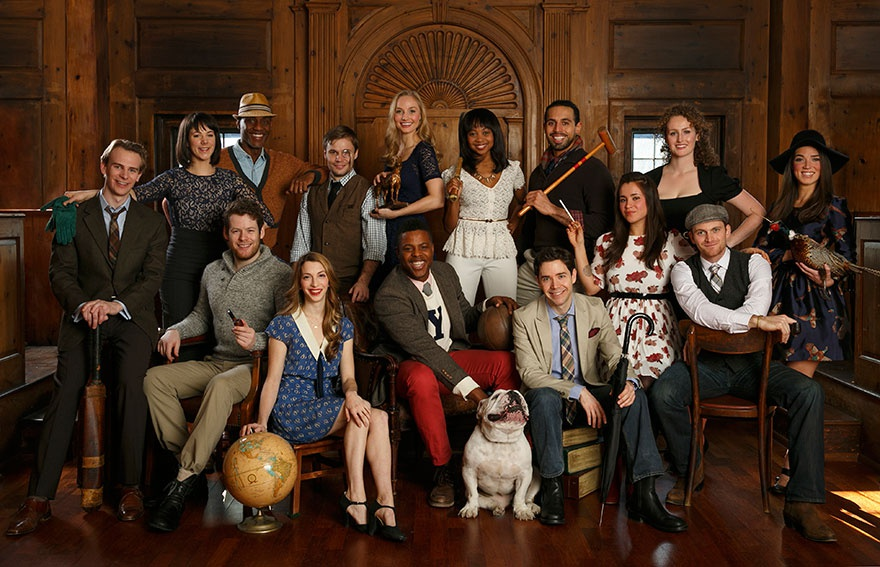bad: (609, 186, 645, 222), (225, 222, 261, 258), (397, 238, 433, 274), (789, 150, 825, 186), (541, 110, 577, 146), (297, 266, 333, 302), (105, 158, 141, 194), (661, 118, 697, 154), (689, 218, 725, 254), (321, 142, 357, 178), (385, 98, 421, 134), (537, 266, 573, 302), (461, 122, 497, 158), (241, 110, 277, 146)
